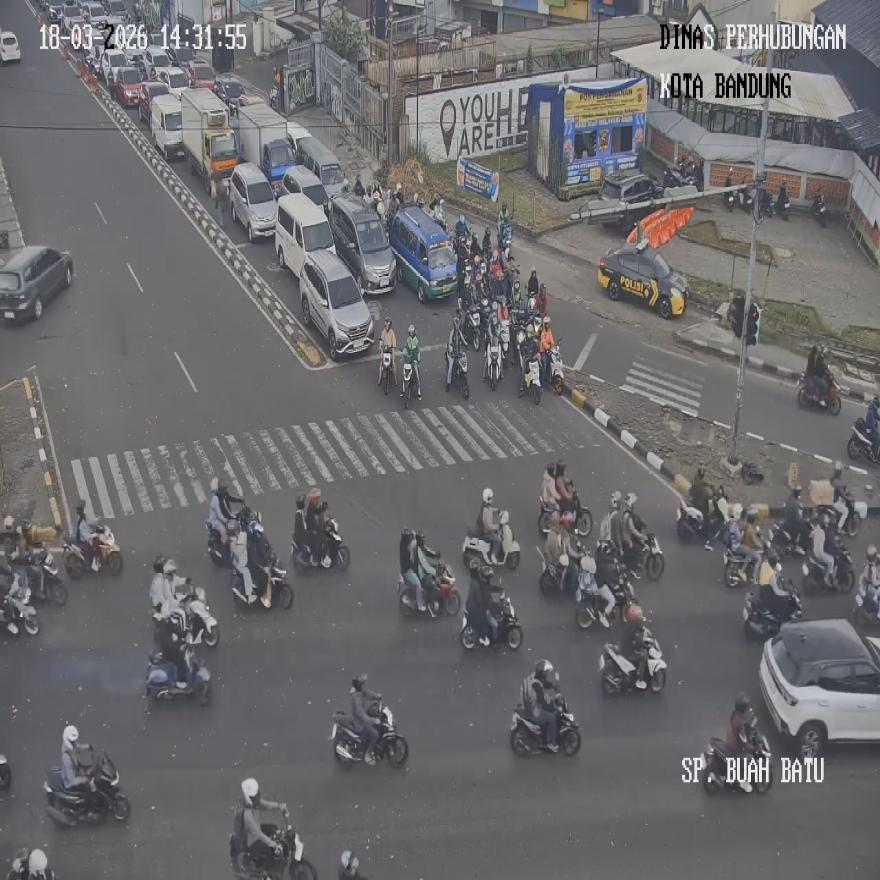Mobil: (758, 618, 880, 759), (0, 244, 74, 321)
Motor: (44, 748, 131, 826), (230, 805, 318, 880), (329, 698, 408, 766), (702, 722, 770, 794), (509, 689, 580, 756), (600, 626, 666, 693), (144, 639, 210, 704), (151, 584, 219, 647), (744, 576, 802, 640), (461, 511, 520, 571), (232, 552, 293, 610), (460, 593, 522, 649), (576, 574, 636, 630), (399, 562, 460, 617), (292, 517, 348, 571), (63, 524, 123, 574), (802, 541, 854, 594), (609, 530, 664, 580), (22, 546, 67, 605), (538, 489, 593, 535), (812, 489, 861, 535), (2, 579, 40, 636), (724, 539, 763, 588), (797, 373, 841, 416), (769, 514, 810, 558), (847, 416, 880, 463), (6, 847, 54, 879), (445, 336, 469, 397), (852, 576, 880, 624), (521, 353, 542, 402), (462, 303, 483, 351), (484, 336, 503, 389), (547, 340, 564, 396), (402, 358, 420, 408), (378, 342, 394, 394), (498, 316, 514, 366), (811, 190, 828, 228), (773, 185, 790, 221), (723, 168, 736, 212), (740, 181, 756, 214), (0, 753, 11, 788), (269, 85, 281, 112)
